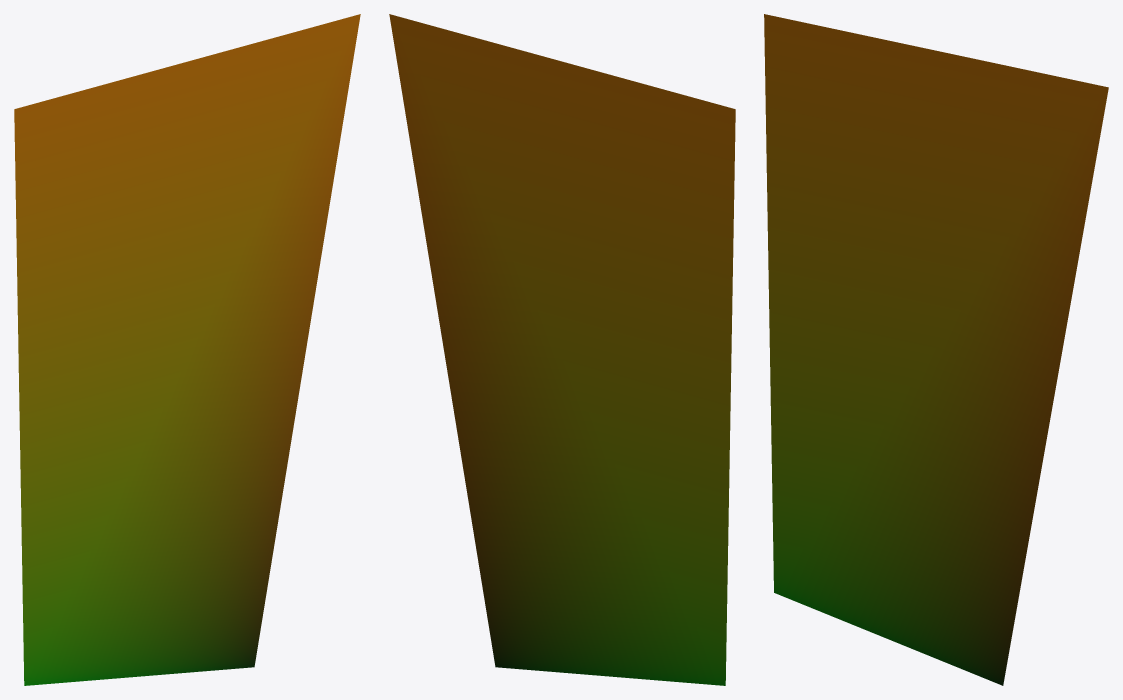
Rendered from Var5_LOD3.fbx.
3 views of the same model, side by side, from view 1: azimuth 30°, elevation 25°; view 2: azimuth 150°, elevation 25°; view 3: azimuth 330°, elevation 25° (orthographic).
Visible parts, largest first — view 1: _2334_Var5_LOD3; view 2: _2334_Var5_LOD3; view 3: _2334_Var5_LOD3.
Part boxes in pixels (left/top/right/bottom): _2334_Var5_LOD3: left=14, top=14, right=360, bottom=685; _2334_Var5_LOD3: left=389, top=14, right=735, bottom=685; _2334_Var5_LOD3: left=764, top=14, right=1108, bottom=685.
Size of the model in its own units: 14.04 by 24.29 by 4.47e-06.
